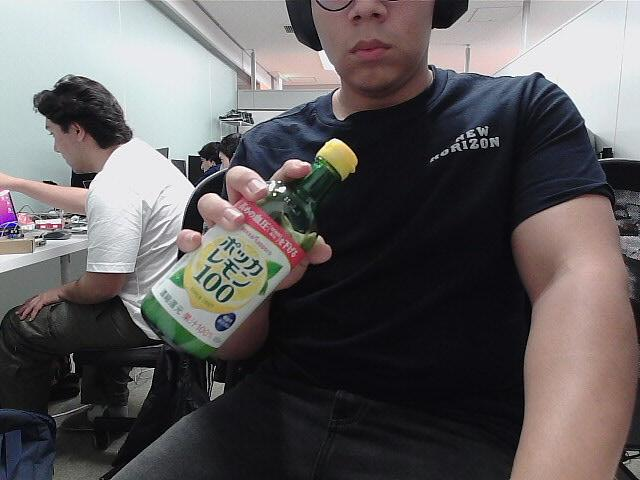Lemon_sapporo: (139, 134, 363, 369)
